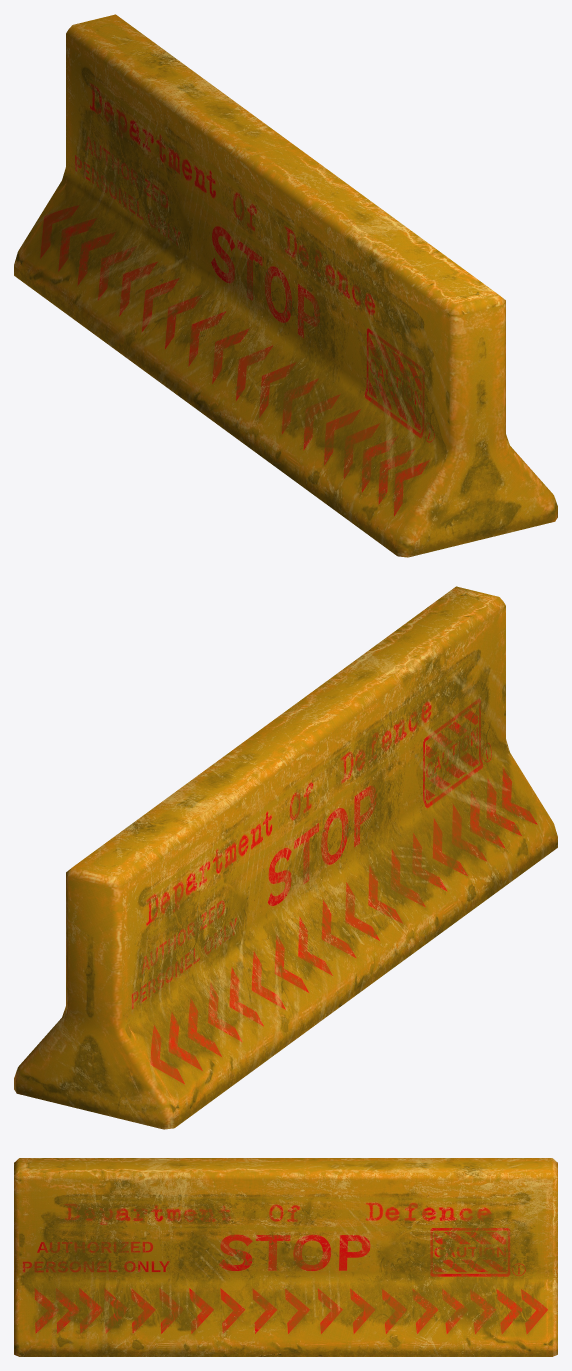
File: obstacle2.glb
3 views of the same model, one above another, from view 1: azimuth 30°, elevation 25°; view 2: azimuth 150°, elevation 25°; view 3: azimuth 270°, elevation 25° (orthographic). The views are drawn at different scales.
Parts seen in each view (by area): view 1: Barrier_Low; view 2: Barrier_Low; view 3: Barrier_Low.
Boxes of the visible parts, bbox=[...] form: Barrier_Low: bbox=[14, 14, 557, 557]; Barrier_Low: bbox=[14, 586, 557, 1129]; Barrier_Low: bbox=[14, 1158, 557, 1356].
Bounding box in the file's own units: 0.4735 × 0.6667 × 2.
1 material, 1 textured.
